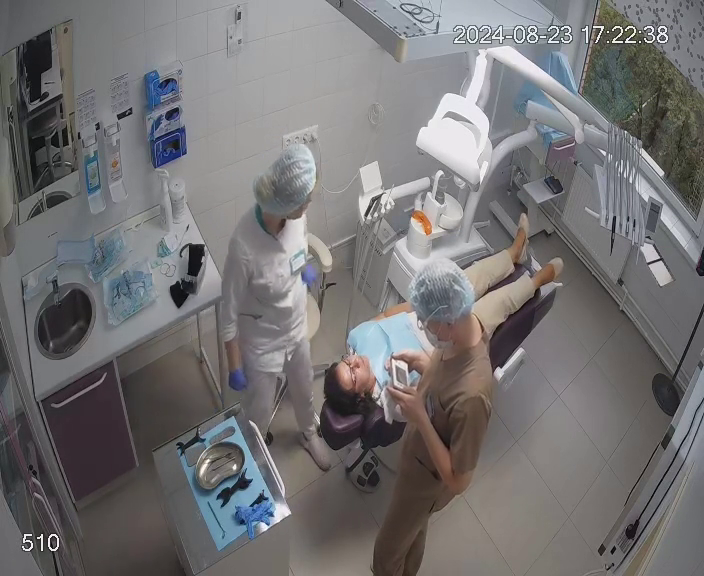Patient: (314, 211, 567, 451)
